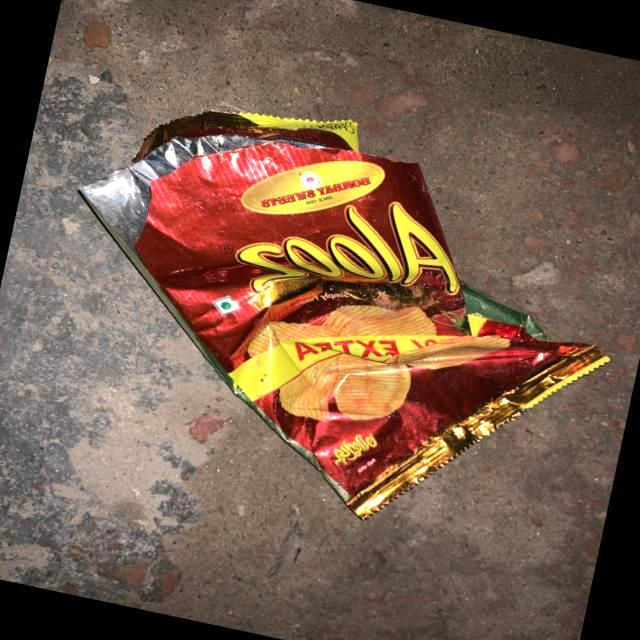packet: (87, 1, 594, 539)
